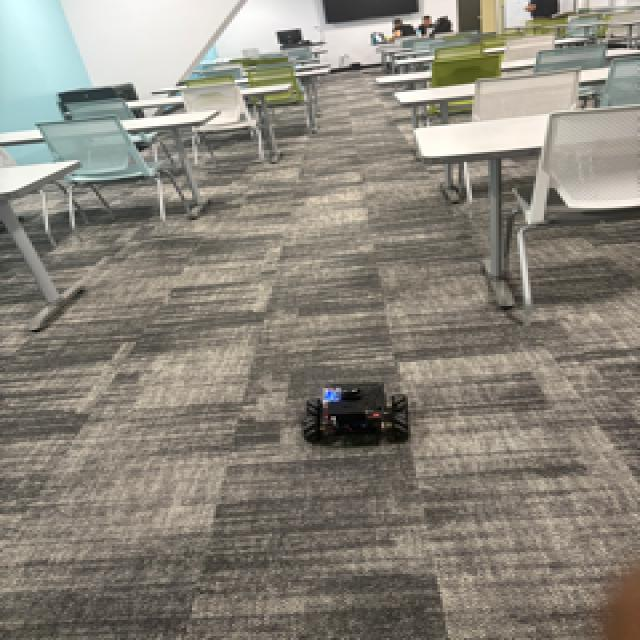ArduinoCar3: (307, 372, 417, 448)
